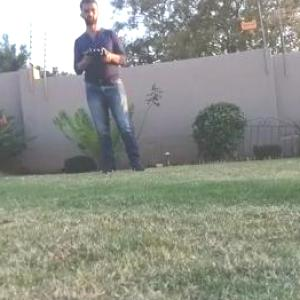follow: (70, 0, 152, 180)
